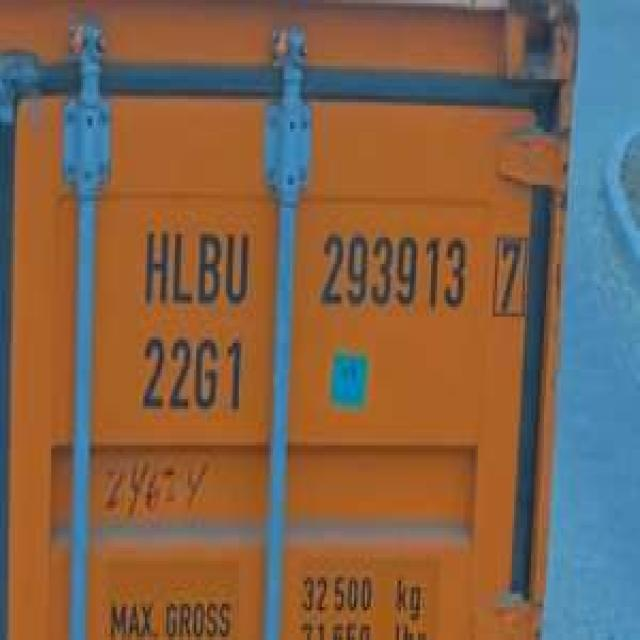dv: (489, 224, 531, 324)
owner: (139, 218, 254, 310)
serial: (316, 221, 469, 320)
size: (134, 327, 250, 422)
